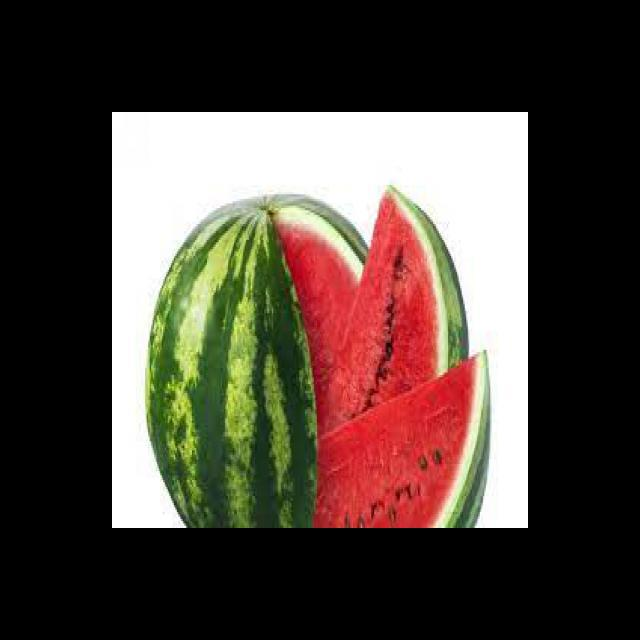watermelon: (142, 191, 368, 528), (321, 181, 470, 437), (314, 348, 493, 528)
